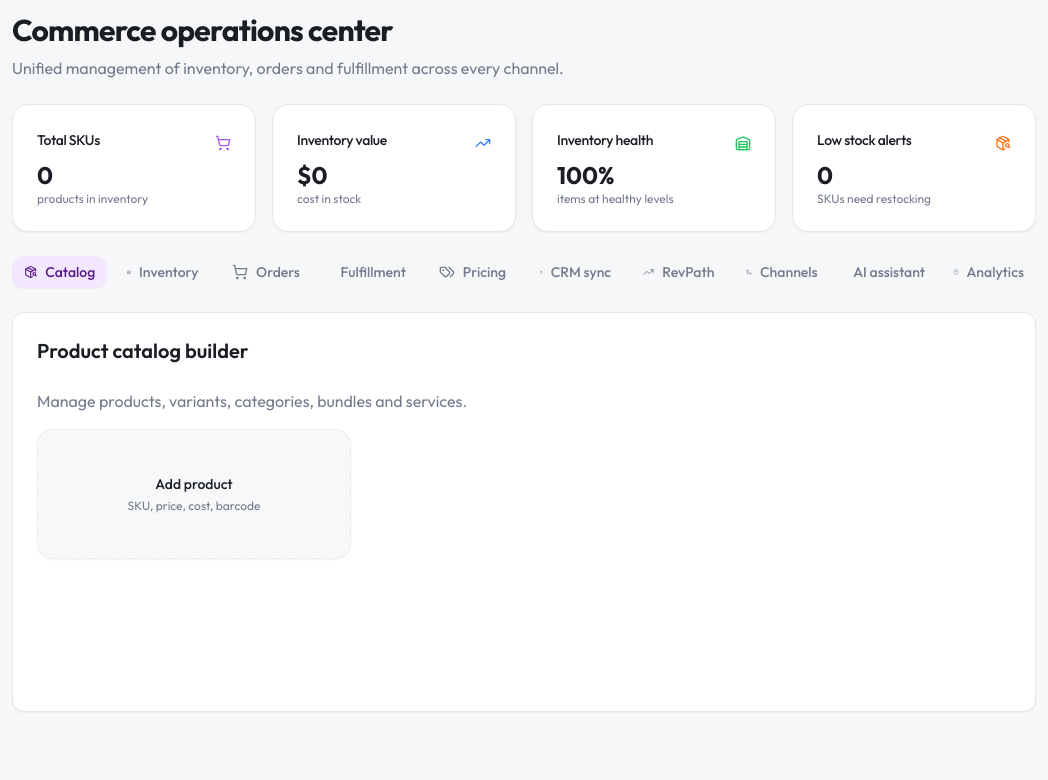
InventoryOrders in English › lists the stock with English columns and statuses
Press the mouse on the tab "Inventory" at (163, 272), box [115, 256, 210, 288]
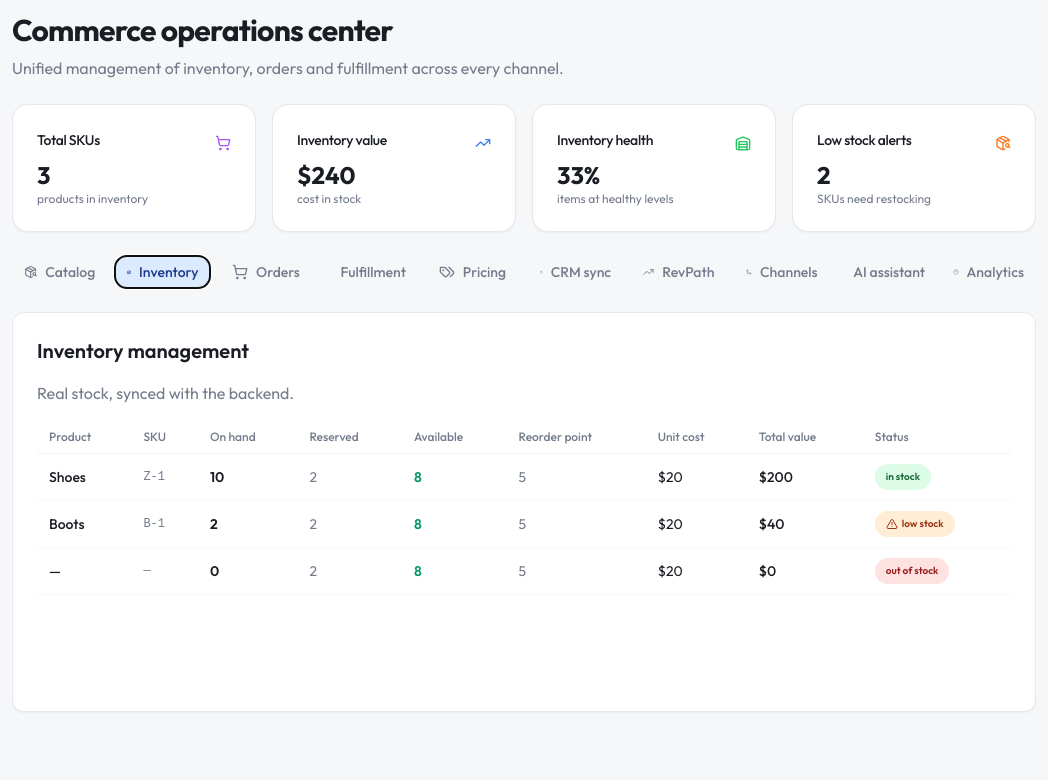
Check: the text "Shoes" is shown, box [37, 454, 131, 500]
Check: the column heading "On hand" is shown, box [198, 421, 297, 454]
Check: the column heading "Reserved" is shown, box [297, 421, 402, 454]
